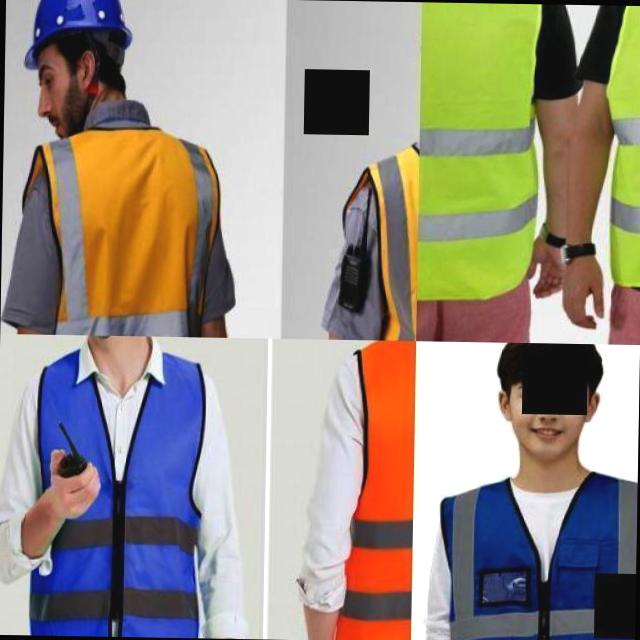vest: (28, 350, 205, 638), (417, 1, 538, 308), (38, 138, 205, 337), (453, 485, 637, 640), (347, 341, 415, 640)
